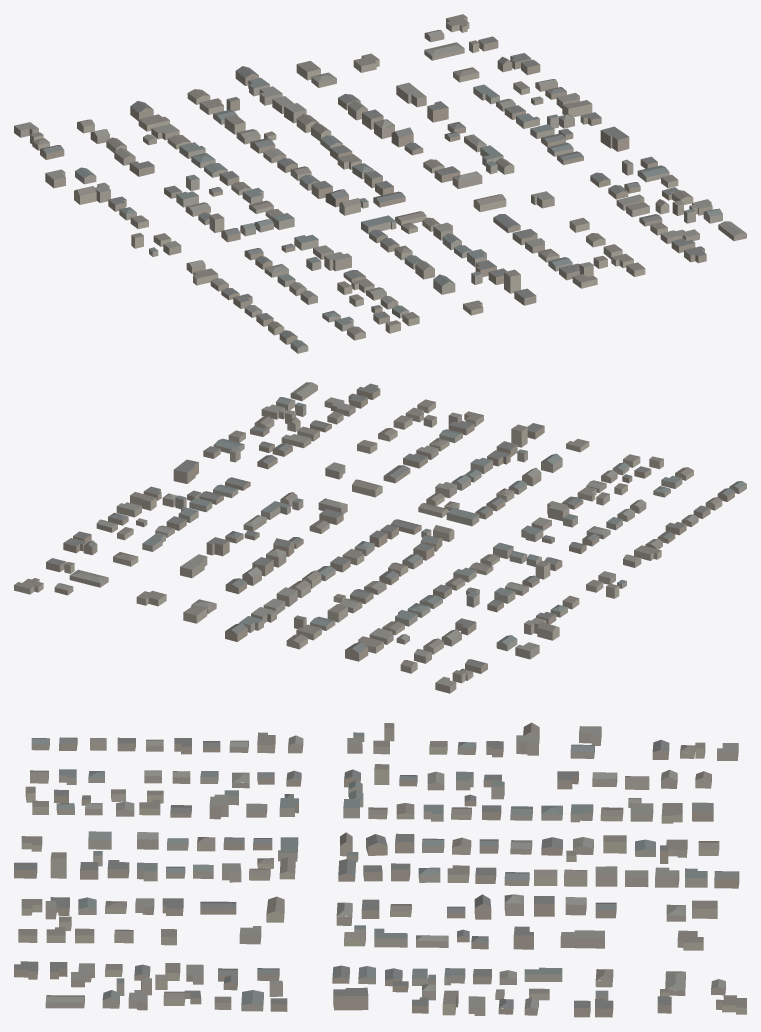
The model's file is f2235d949331-chunk-1199_11845.glb.
The picture shows the model from 3 angles, top to bottom: view 1: azimuth 30°, elevation 25°; view 2: azimuth 150°, elevation 25°; view 3: azimuth 270°, elevation 25°; orthographic projection. The views are drawn at different scales.
Parts seen in each view (by area): view 1: building_152582; view 2: no part large enough to name; view 3: building_62236, building_152582, building_17606, building_21788, building_62950, building_10716, building_171188, building_34809, building_92343.
Boxes of the visible parts, box(x1,y1,x2,y2) form: building_152582: box(600, 126, 629, 151); building_62236: box(560, 930, 604, 948); building_152582: box(333, 987, 368, 1010); building_17606: box(374, 928, 407, 947); building_21788: box(45, 995, 84, 1008); building_62950: box(524, 967, 562, 981); building_10716: box(200, 901, 236, 914); building_171188: box(716, 995, 746, 1014); building_34809: box(665, 971, 685, 995); building_92343: box(692, 900, 717, 918).
Bounding box in the file's own units: 359 × 11.99 × 395.
